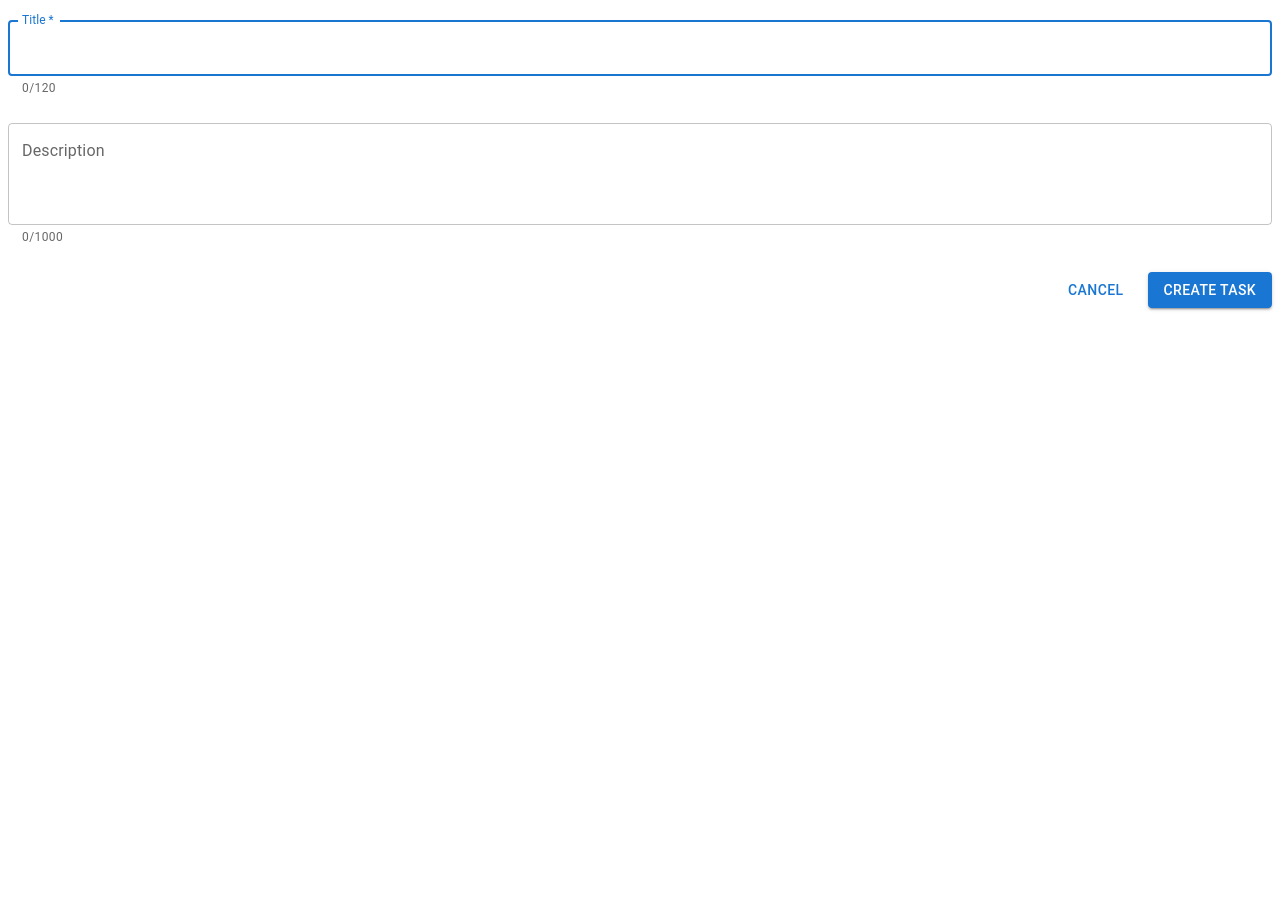
Test: CreateTaskForm › keeps the typed values and shows the server error when saving fails
In the field labelled "Title *": (640, 48) 8,20 -> 1272,76, type "Will not fit"
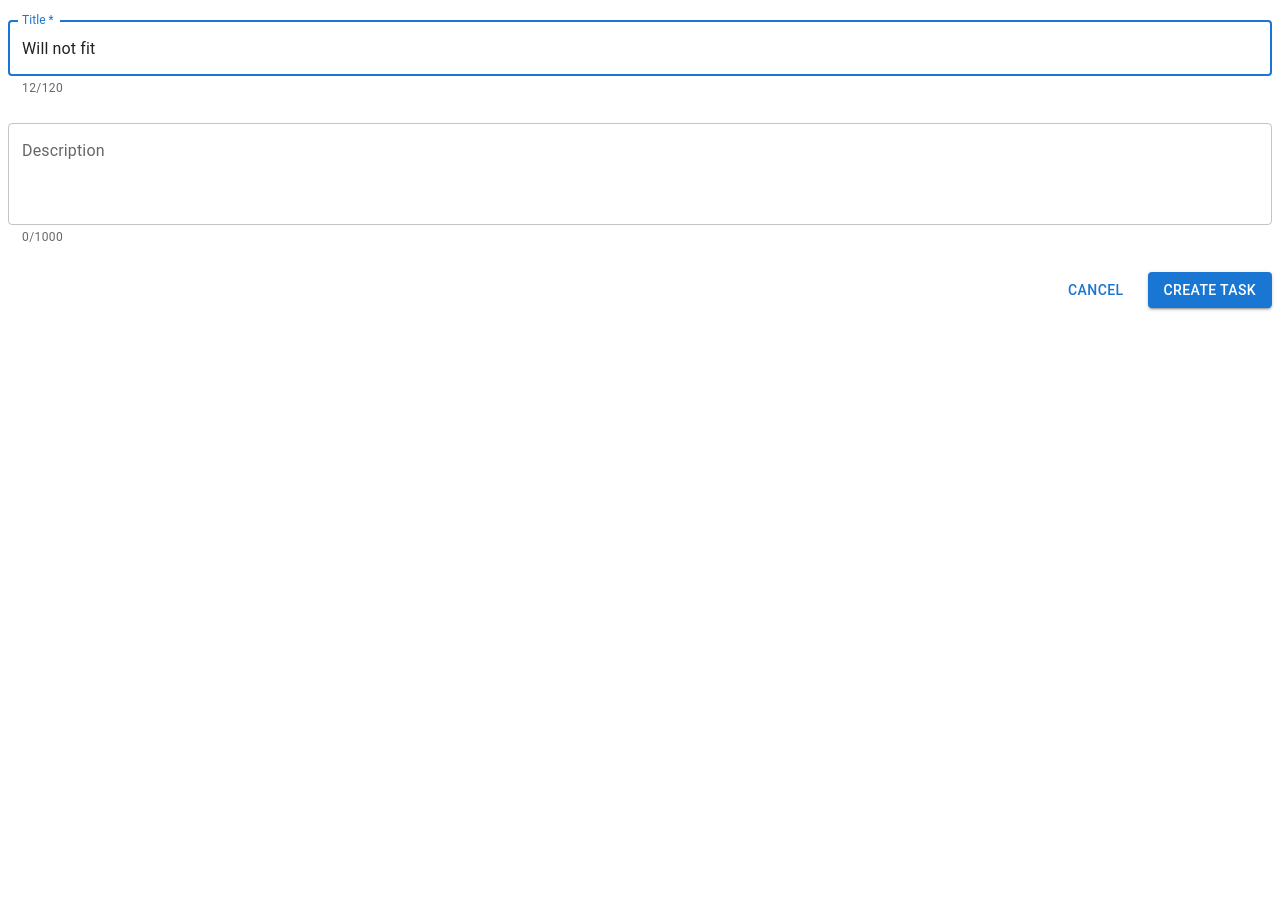
Click the button "Create task": (1210, 290) 1148,272 -> 1272,308
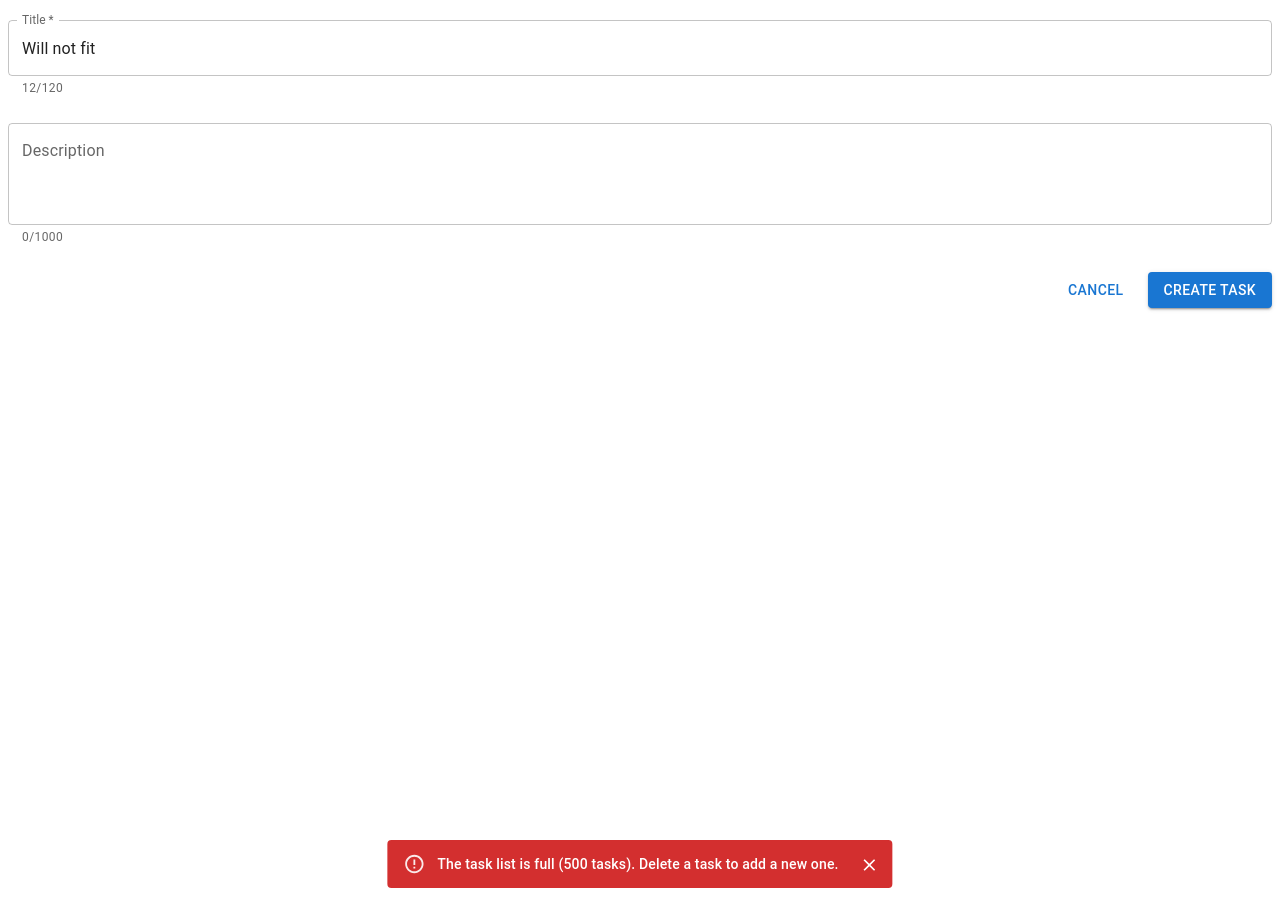
Check: the message shows "task list is full", box 437,856 -> 839,872
